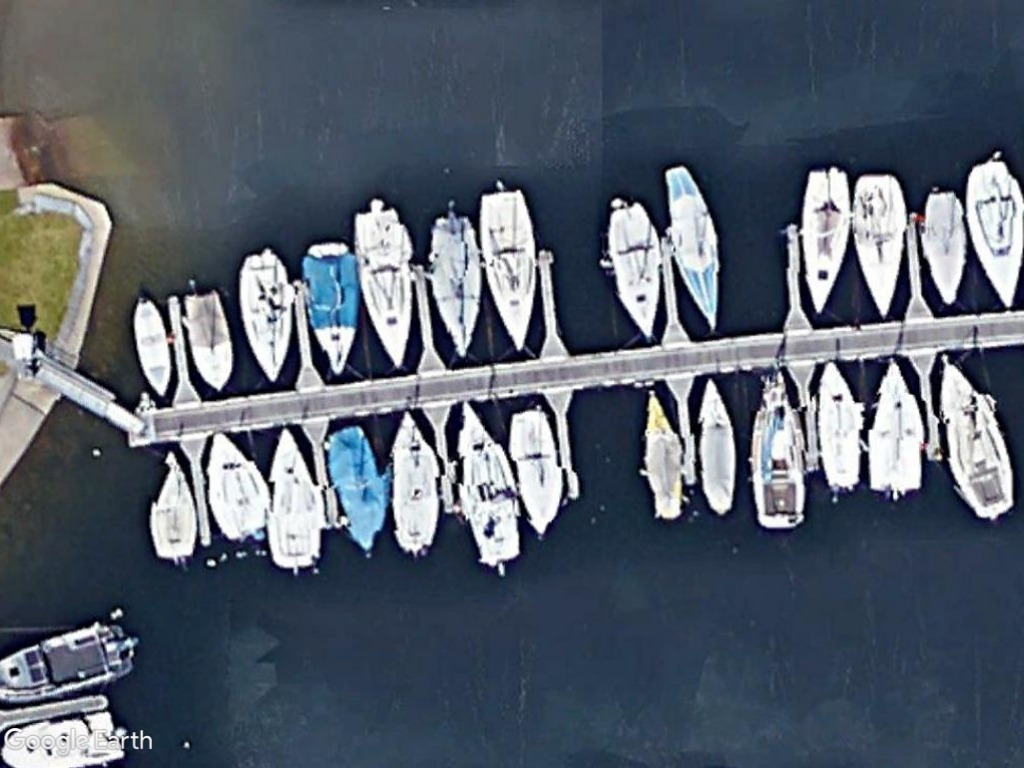boat: (941, 354, 1024, 524), (0, 617, 138, 707), (454, 397, 526, 569), (660, 163, 725, 336), (353, 200, 419, 368), (477, 185, 534, 357), (750, 367, 809, 533), (792, 163, 855, 318), (261, 427, 324, 577), (965, 157, 1024, 311), (383, 407, 441, 562), (234, 247, 297, 386), (503, 404, 566, 542), (606, 194, 665, 341), (324, 421, 384, 562), (853, 164, 906, 323), (198, 430, 266, 553), (424, 214, 481, 360), (868, 357, 925, 500), (300, 238, 358, 378), (813, 360, 868, 497), (692, 373, 743, 520), (634, 384, 687, 524), (915, 180, 966, 311), (180, 283, 234, 396), (125, 287, 173, 400)
